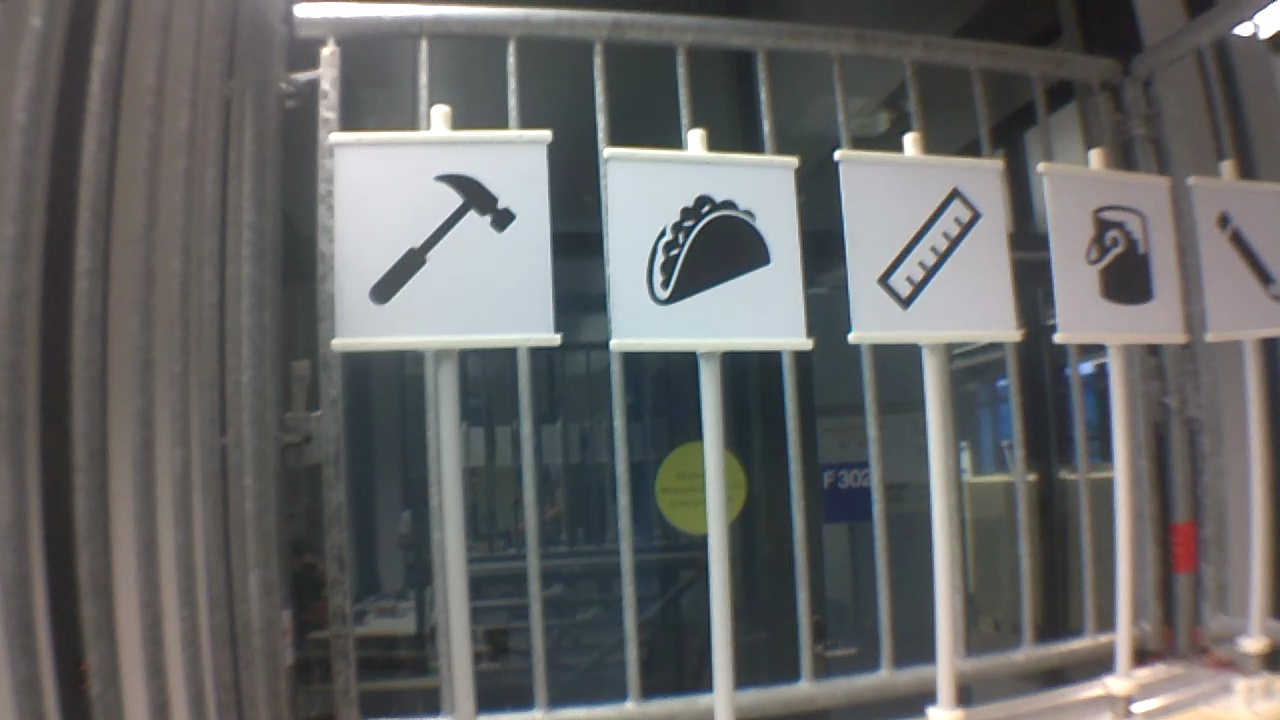bucket: (1078, 198, 1158, 310)
hammer: (362, 167, 523, 310)
pencil: (1204, 202, 1280, 309)
ruler: (872, 182, 990, 317)
taco: (640, 188, 775, 308)
